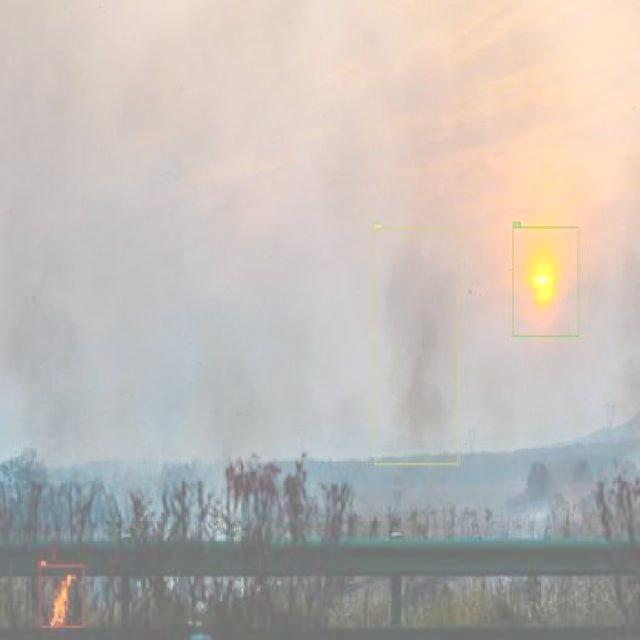fire: (39, 565, 84, 627)
smoke: (374, 228, 458, 464)
